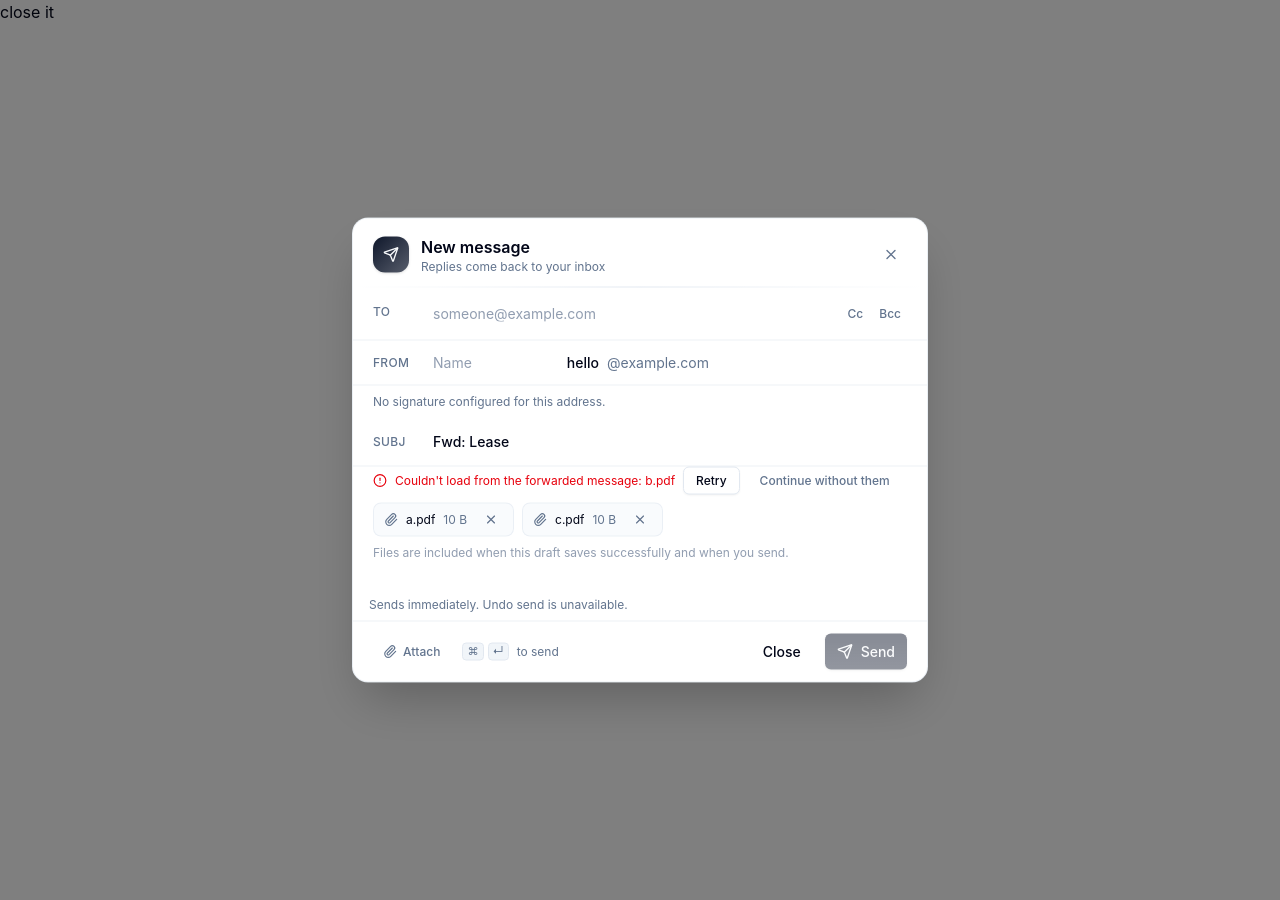
Test: a file that fails to download › does not take the others with it; Retry asks only for that one
The width and height of the screenshot is (1280, 900).
Expected: the message shows "Couldn't load from the forwarded message: b.pdf", [395,472,675,488]
Expected: the text "a.pdf" is shown, [406,512,435,528]
Click the button "Retry": (711, 480) [683,466,740,494]
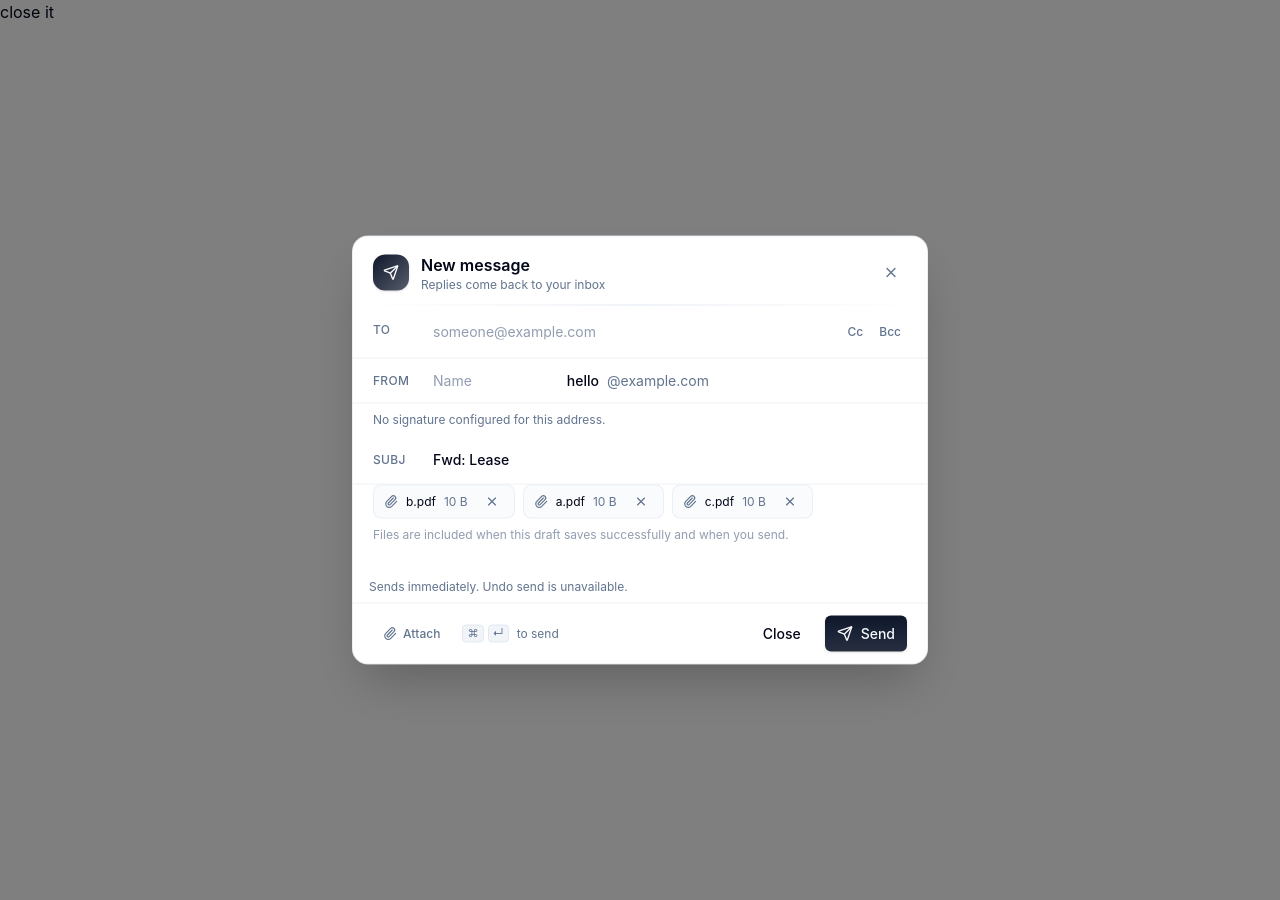
Expected: the text "b.pdf" is shown, [406,494,436,510]
Now the message "Couldn't load from the forwarded message: b.pdf Retry Continue without them" is gone
